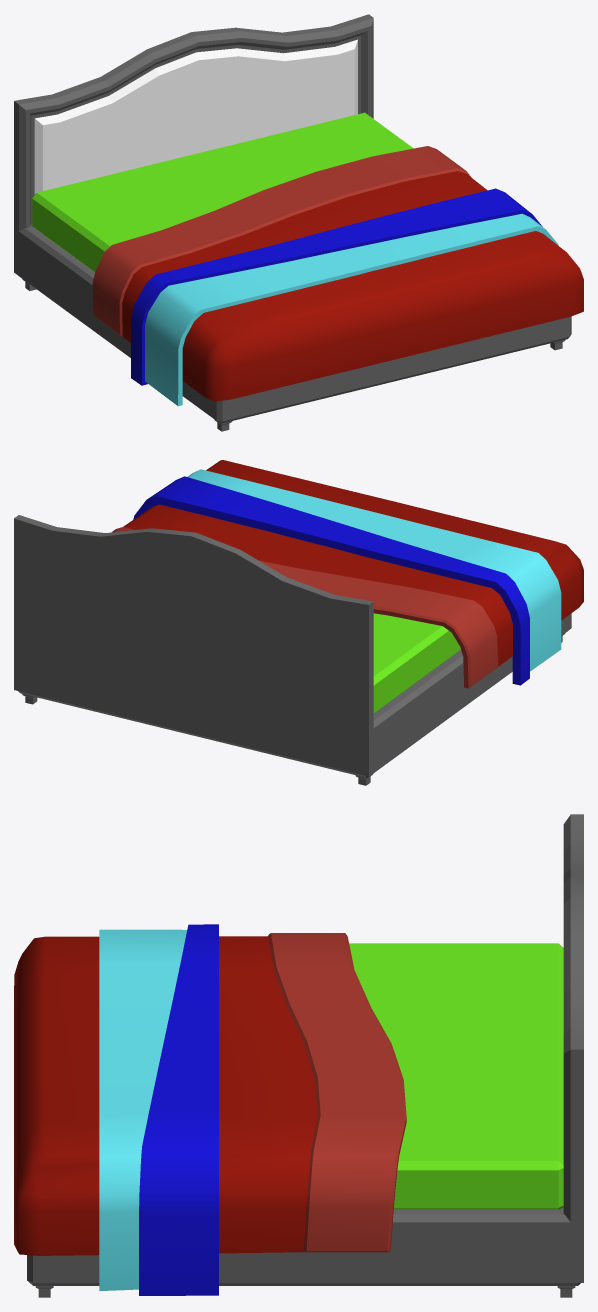
The model's file is SM_Bed_02.fbx.
3 views of the same model, one above another, from view 1: azimuth 30°, elevation 25°; view 2: azimuth 150°, elevation 25°; view 3: azimuth 270°, elevation 25° (orthographic). The views are drawn at different scales.
Visible parts, largest first — view 1: SM_Bed_02; view 2: SM_Bed_02; view 3: SM_Bed_02.
Boxes of the visible parts, box(x1,y1,x2,y2) form: SM_Bed_02: box(14, 14, 583, 431); SM_Bed_02: box(14, 460, 583, 785); SM_Bed_02: box(14, 814, 583, 1297).
Size of the model in its own units: 86.45 by 44.78 by 80.6.
